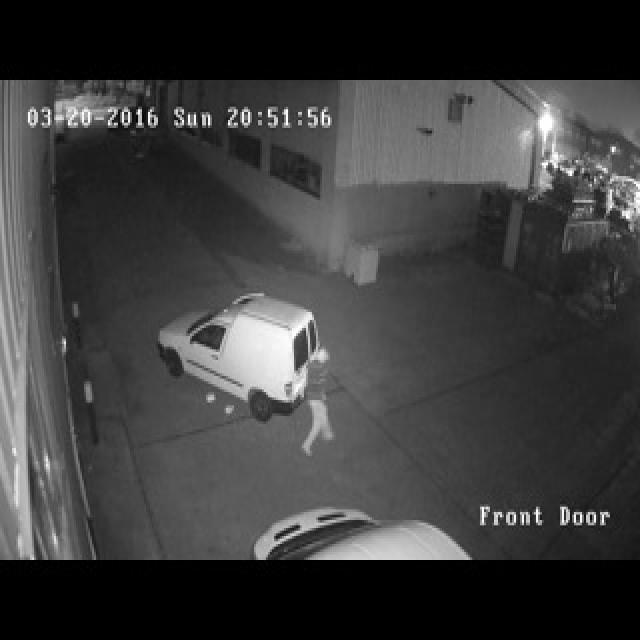thief: (308, 337, 342, 466)
